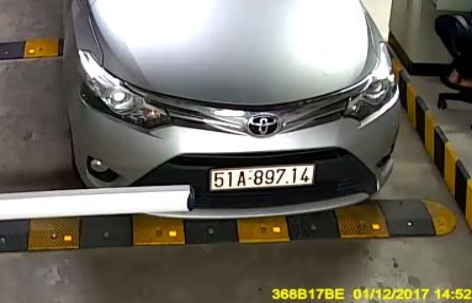plate: (208, 162, 319, 193)
